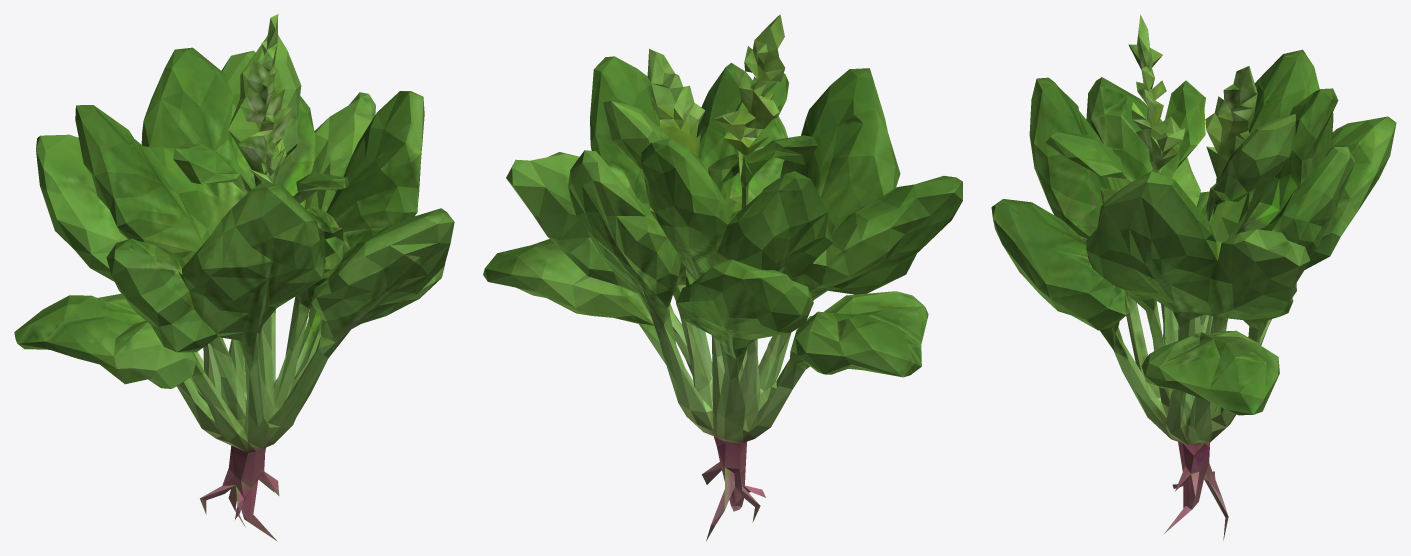
Rendered from P_Bocai_02.obj.
3 views of the same model, side by side, from view 1: azimuth 30°, elevation 25°; view 2: azimuth 150°, elevation 25°; view 3: azimuth 270°, elevation 25° (orthographic).
Size of the model in its own units: 0.5145 by 0.5791 by 0.4156.
1 material, 1 textured.
